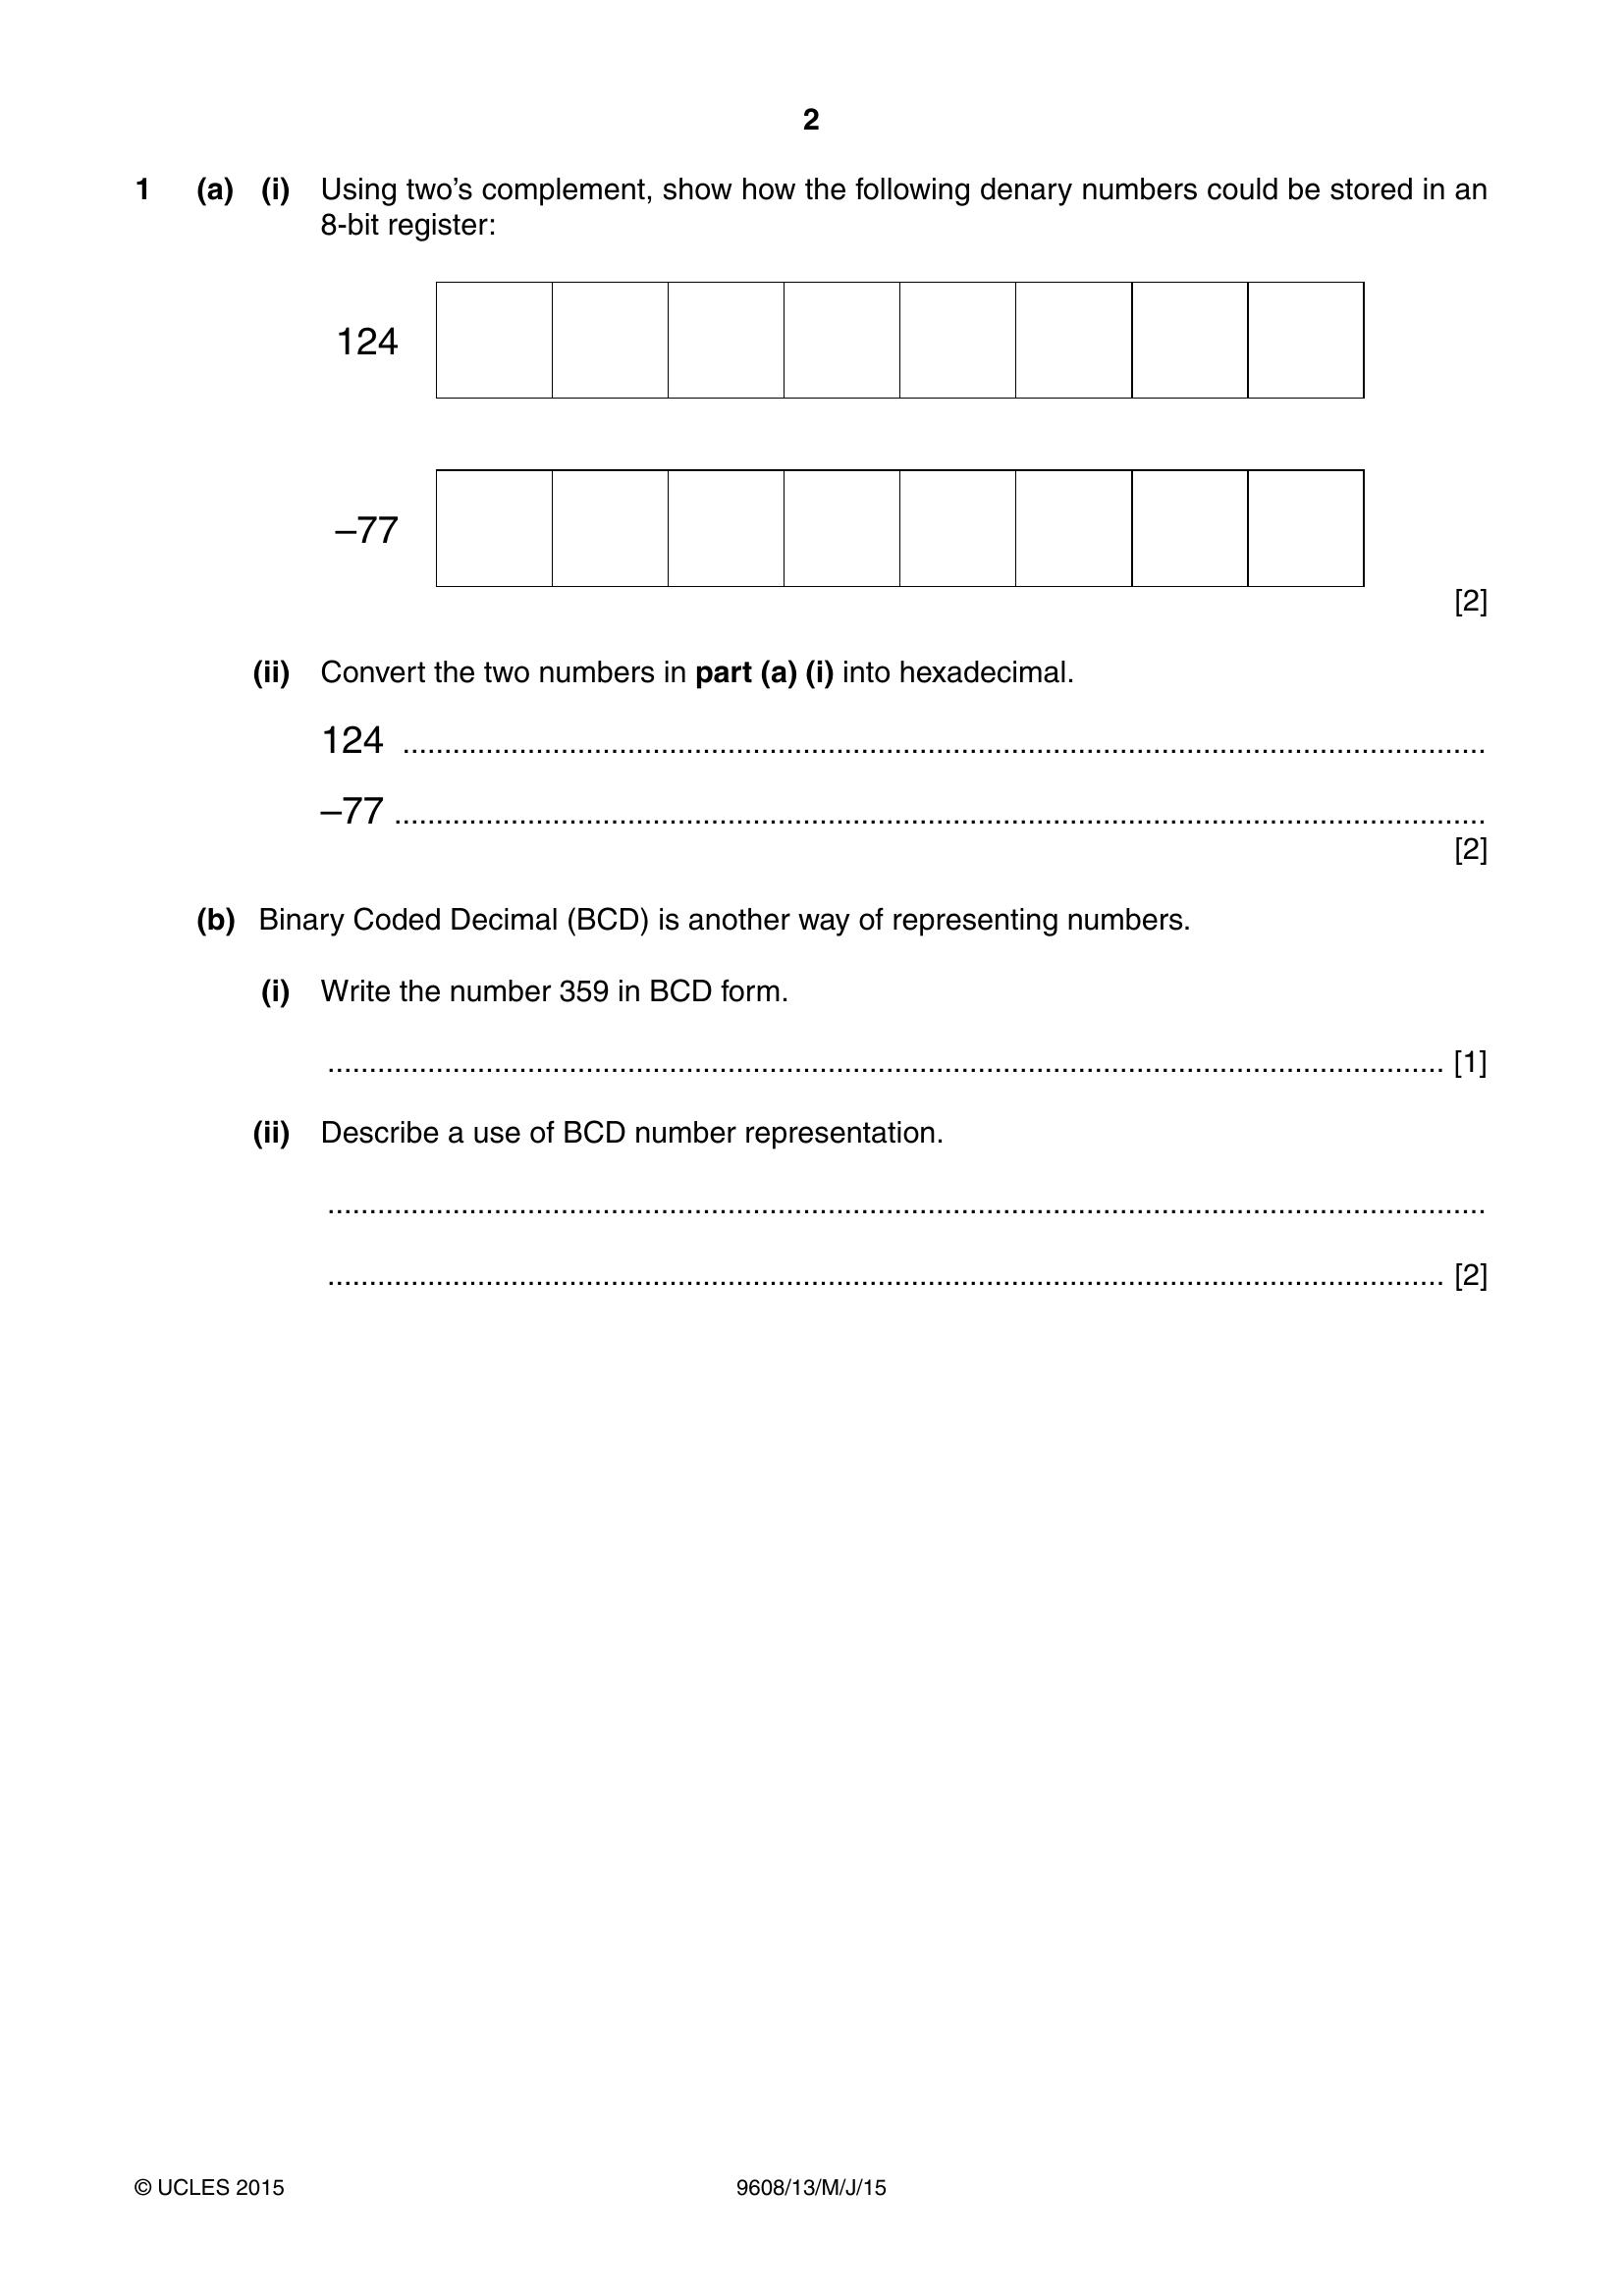question: (5, 142, 1624, 1351)
